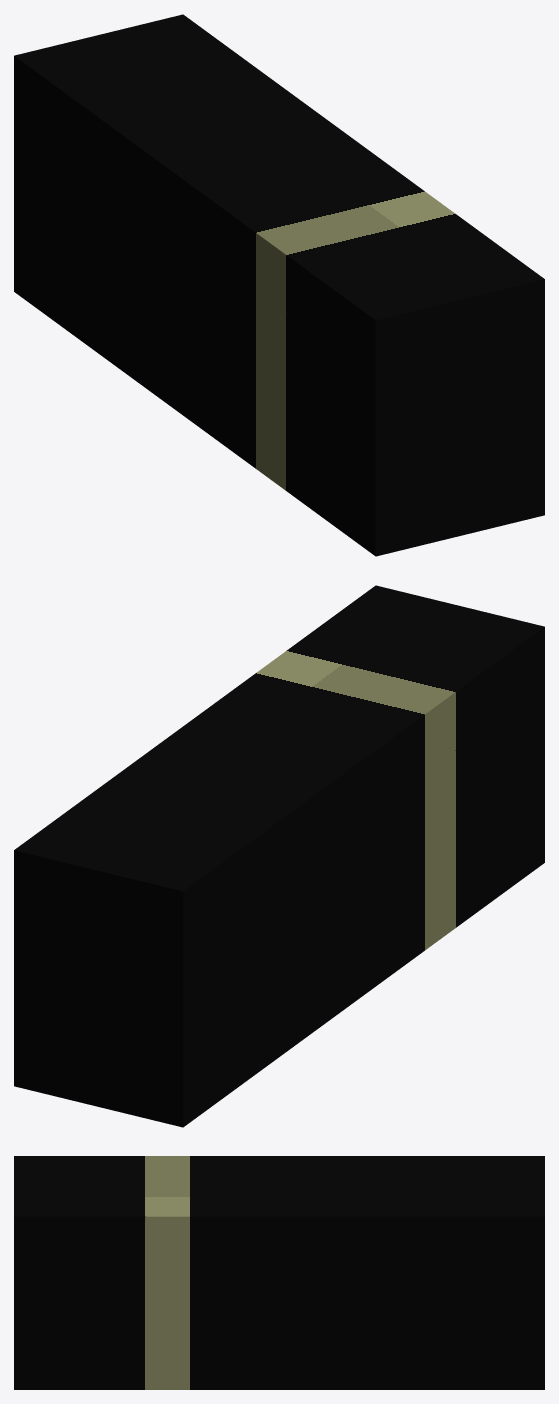
File: slim_left_controller.glb
The picture shows the model from 3 angles, top to bottom: view 1: azimuth 30°, elevation 25°; view 2: azimuth 150°, elevation 25°; view 3: azimuth 270°, elevation 25°; orthographic projection. The views are drawn at different scales.
Visible parts, largest first — view 1: Outer; view 2: Outer; view 3: Outer.
Boxes of the visible parts, <box> form: Outer: <box>14,14,544,556</box>; Outer: <box>14,585,544,1127</box>; Outer: <box>14,1156,544,1389</box>.
Bounding box in the file's own units: 0.1055 × 0.1406 × 0.3906.
2 materials, 2 textured.
